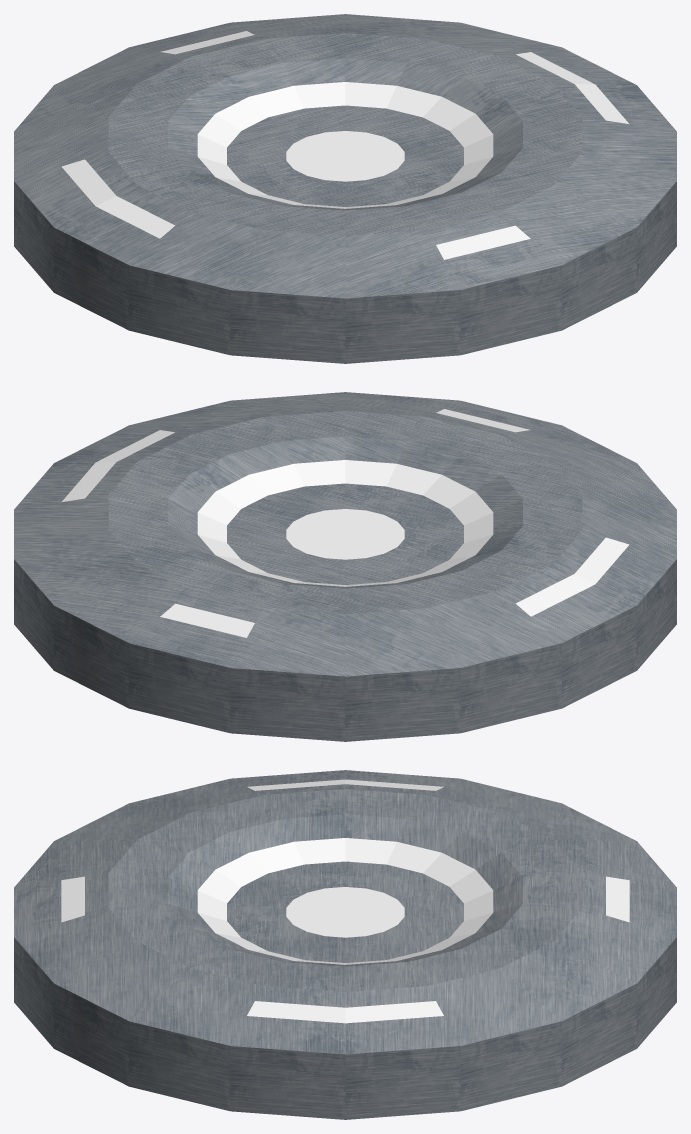
The model's file is Sensor-Type-0-LowPoly.obj.
The picture shows the model from 3 angles, top to bottom: view 1: azimuth 30°, elevation 25°; view 2: azimuth 150°, elevation 25°; view 3: azimuth 270°, elevation 25°; orthographic projection.
Parts seen in each view (by area): view 1: Sensor-Type-0-LowPoly; view 2: Sensor-Type-0-LowPoly; view 3: Sensor-Type-0-LowPoly.
Boxes of the visible parts, x1=… form: Sensor-Type-0-LowPoly: x1=14, y1=14, x2=676, y2=363; Sensor-Type-0-LowPoly: x1=14, y1=392, x2=676, y2=741; Sensor-Type-0-LowPoly: x1=14, y1=770, x2=676, y2=1119.
Bounding box in the file's own units: 1.4 × 0.2 × 1.38.
